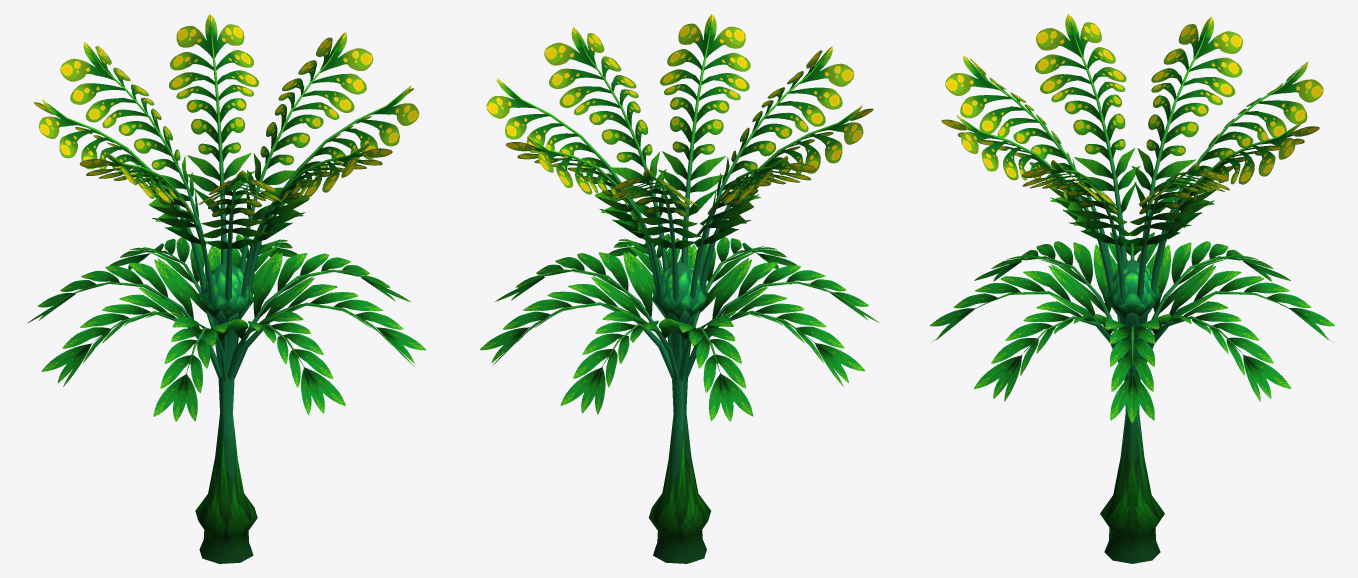
Rendered from Green_Tree_06b.FBX.
The picture shows the model from 3 angles, left to right: view 1: azimuth 30°, elevation 25°; view 2: azimuth 150°, elevation 25°; view 3: azimuth 270°, elevation 25°; orthographic projection.
Parts seen in each view (by area): view 1: Green_Tree_06b; view 2: Green_Tree_06b; view 3: Green_Tree_06b.
Part boxes in pixels (x1=…): Green_Tree_06b: x1=27, y1=14, x2=425, y2=563; Green_Tree_06b: x1=480, y1=14, x2=879, y2=563; Green_Tree_06b: x1=930, y1=14, x2=1334, y2=563.
Size of the model in its own units: 368 by 445 by 368.
